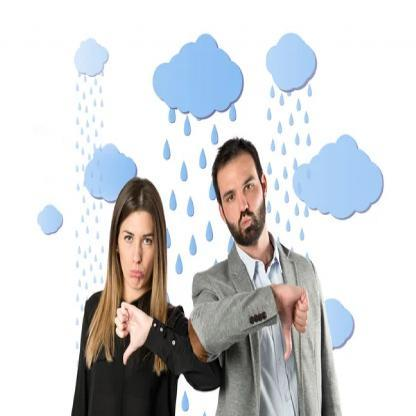thumb_down: (272, 278, 310, 361), (112, 297, 148, 372)
